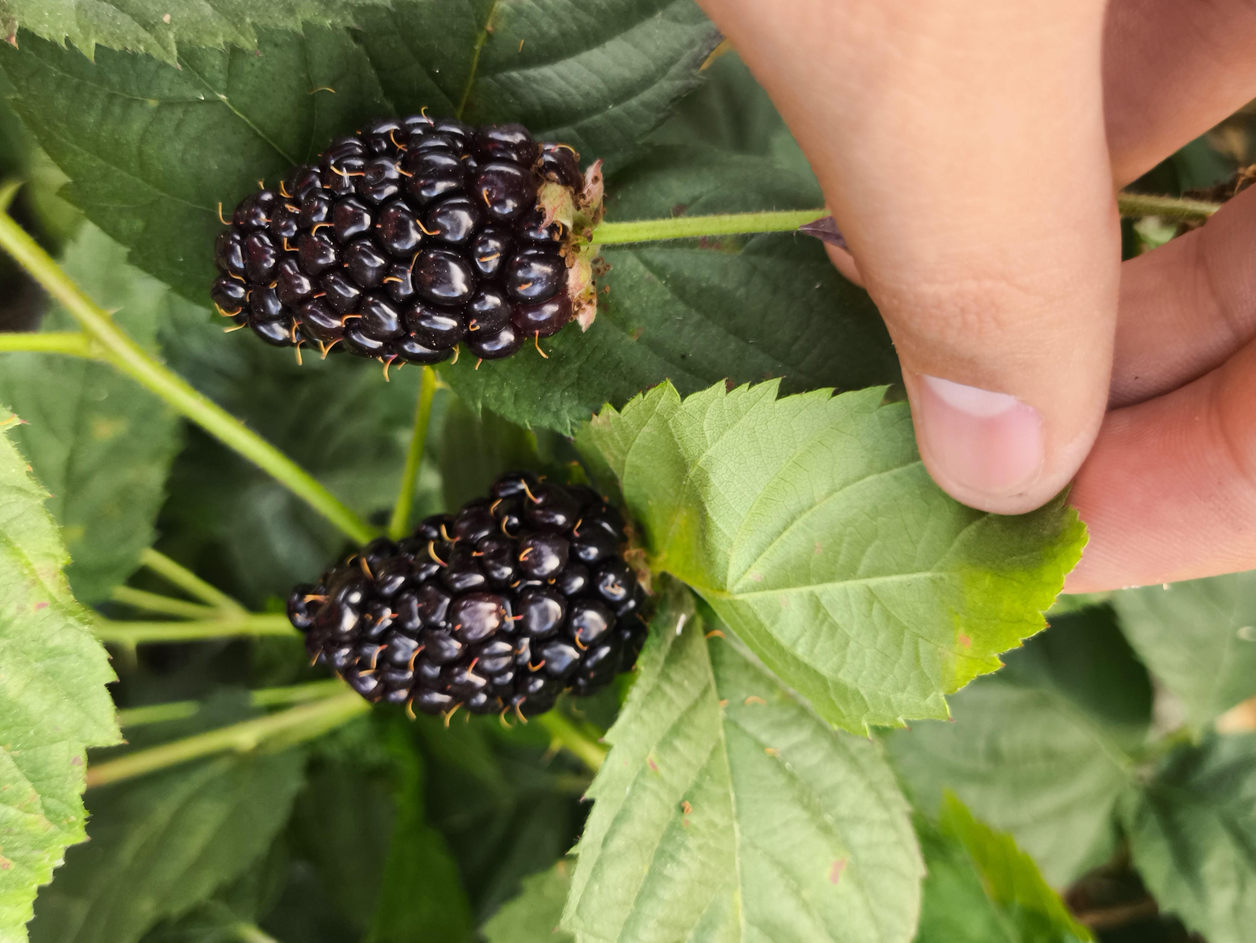maduro: (219, 106, 585, 363), (287, 471, 653, 710)
